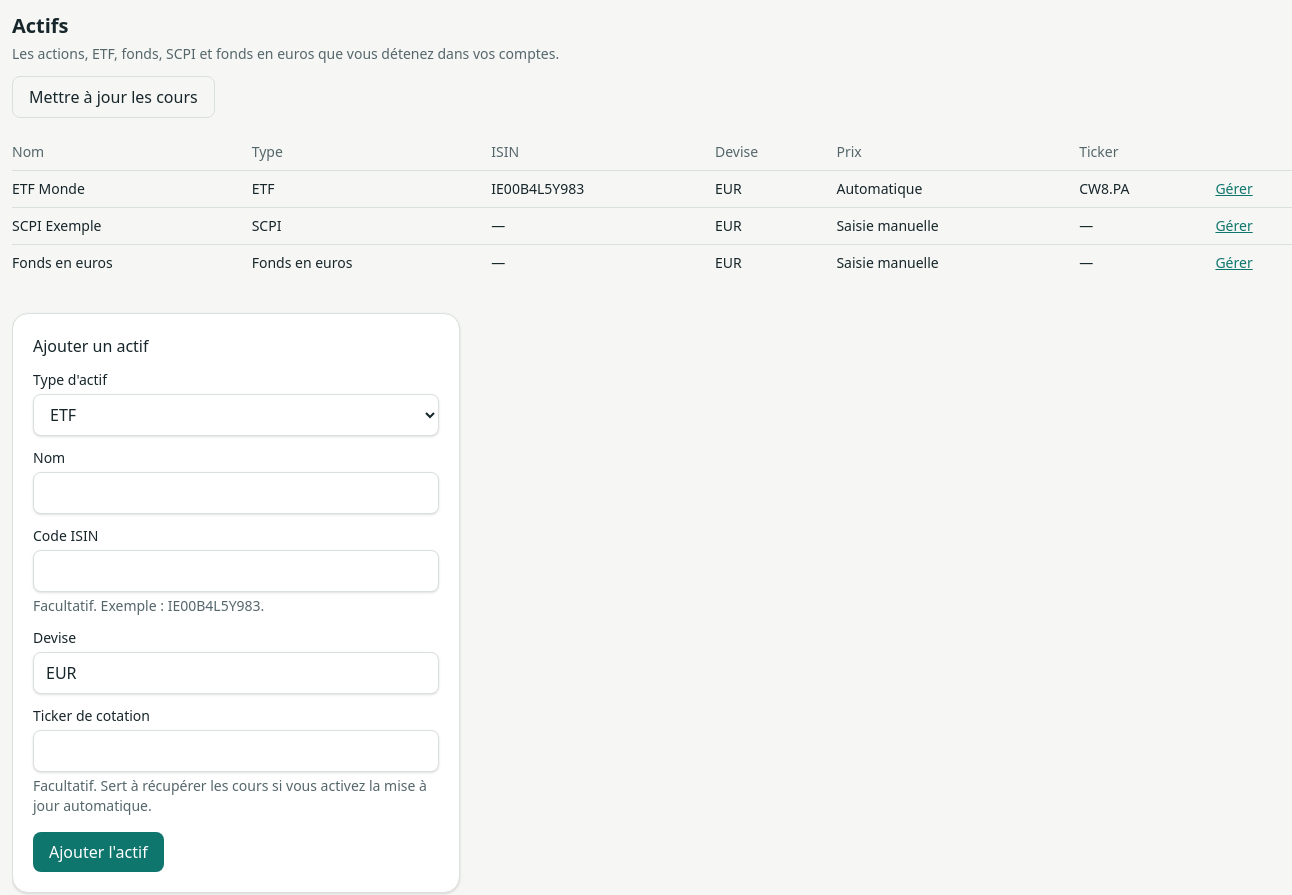
Scenario: prix › n’offre pas de prix pour un fonds en euros
Click the 3rd button "Gérer": [1234, 263] box 1215,253 -> 1253,273
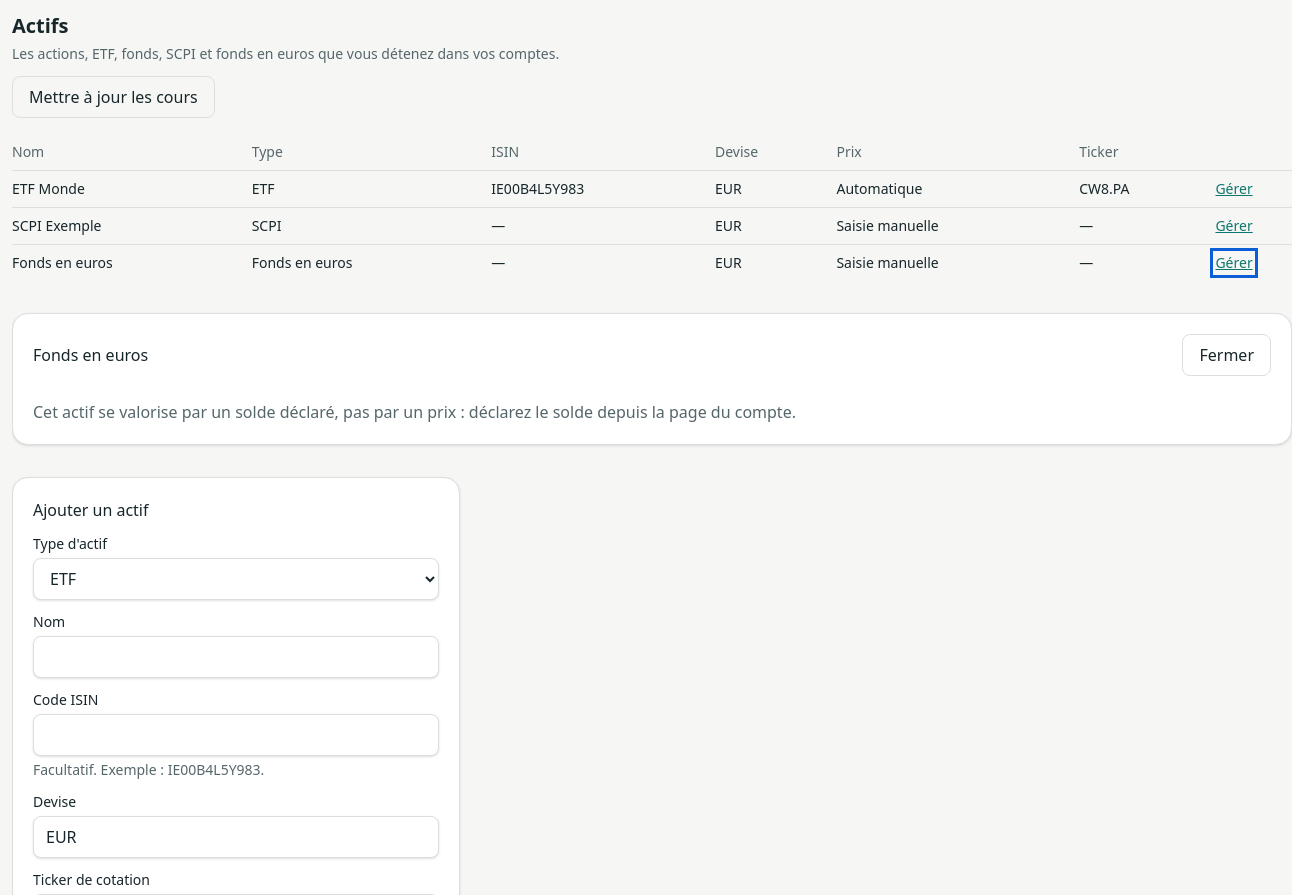
Expected: the text "solde déclaré" is shown, 33,401 -> 796,423
